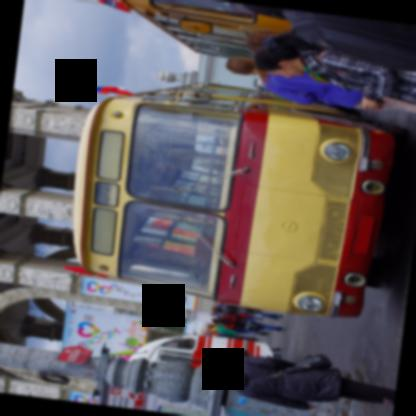backpack: (280, 8, 416, 73)
handbag: (247, 352, 332, 382), (319, 52, 353, 74), (236, 318, 258, 331)
